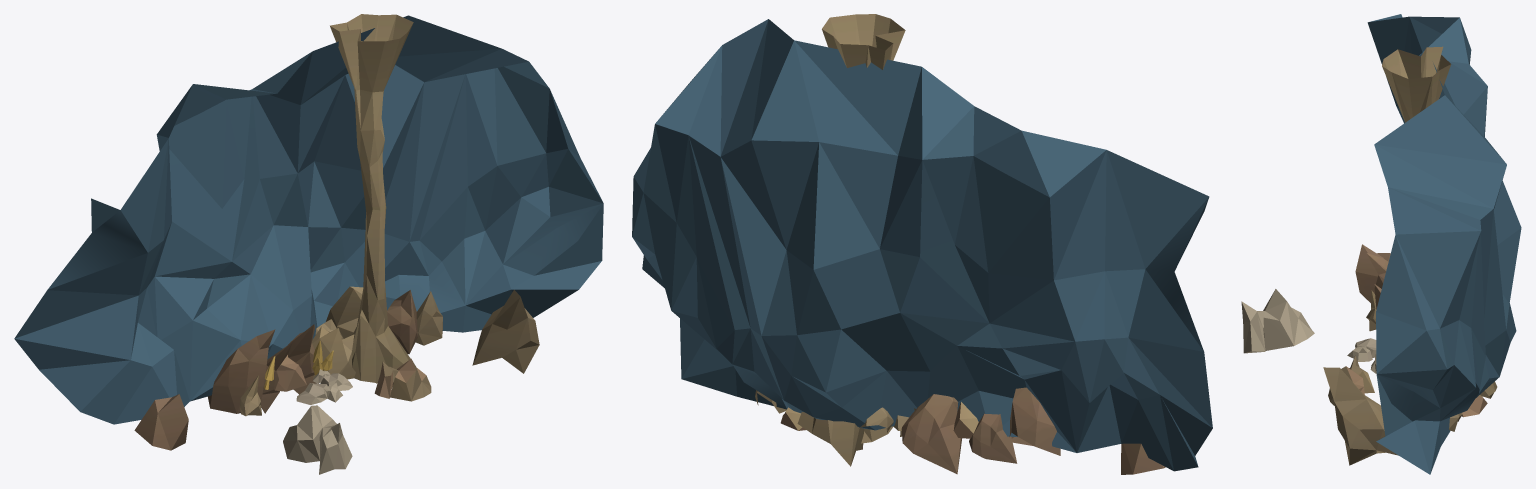
File: caveEnd.fbx
The picture shows the model from 3 angles, left to right: view 1: azimuth 30°, elevation 25°; view 2: azimuth 150°, elevation 25°; view 3: azimuth 270°, elevation 25°; orthographic projection. The views are drawn at different scales.
Parts seen in each view (by area): view 1: caveEnd; view 2: caveEnd; view 3: caveEnd.
Boxes of the visible parts, <box> form: caveEnd: <box>14,14,603,474</box>; caveEnd: <box>632,14,1212,474</box>; caveEnd: <box>1241,14,1521,474</box>.
Size of the model in its own units: 16.39 by 10.32 by 7.33.
Materials: 2 (1 with a texture image).
